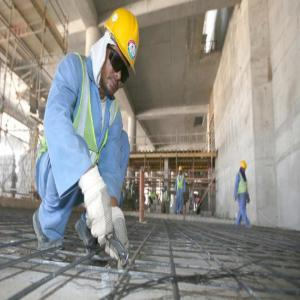yellow: (100, 9, 139, 96), (240, 160, 248, 175), (179, 165, 183, 175)
